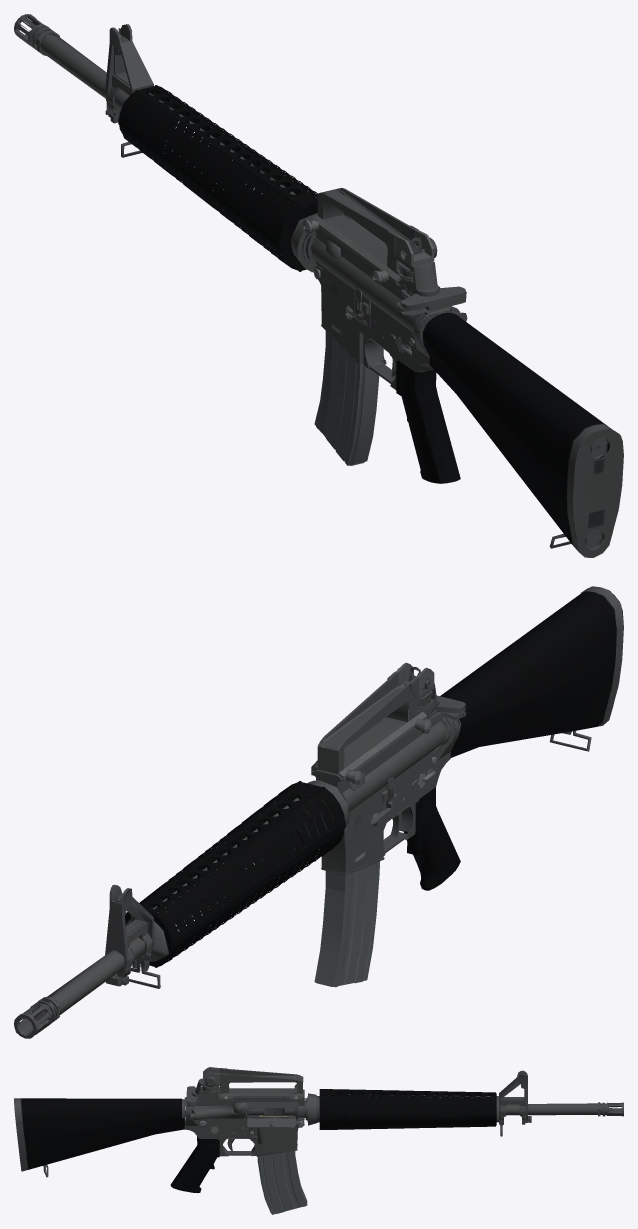
3 views of the same model, one above another, from view 1: azimuth 30°, elevation 25°; view 2: azimuth 150°, elevation 25°; view 3: azimuth 270°, elevation 25° (orthographic). The views are drawn at different scales.
Parts seen in each view (by area): view 1: m16a4_body, mag, charge; view 2: m16a4_body, mag, charge; view 3: m16a4_body, mag, charge.
Boxes of the visible parts, bbox=[...] form: m16a4_body: bbox=[14, 14, 623, 557]; mag: bbox=[314, 304, 379, 465]; charge: bbox=[396, 285, 466, 315]; m16a4_body: bbox=[14, 586, 623, 1038]; mag: bbox=[314, 861, 379, 987]; charge: bbox=[426, 695, 466, 722]; m16a4_body: bbox=[14, 1067, 623, 1193]; mag: bbox=[257, 1115, 307, 1214]; charge: bbox=[186, 1086, 295, 1115].
Bounding box in the file's own units: 0.0669 × 0.2576 × 0.9982.
Materials: 3 (3 with a texture image).
